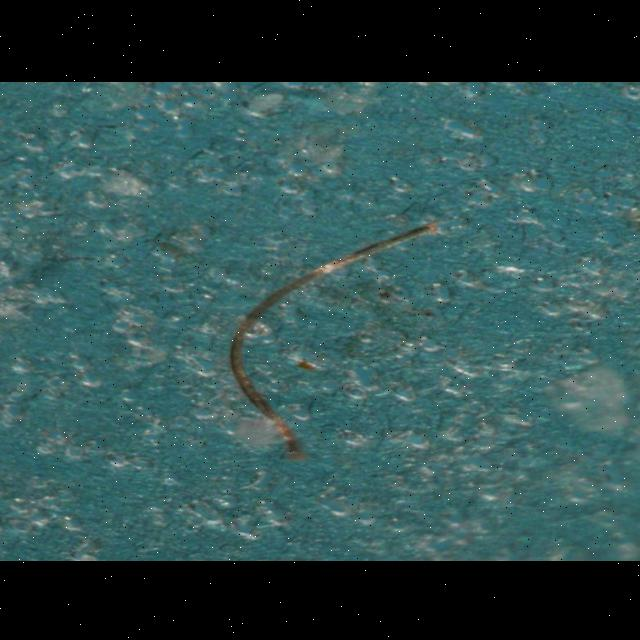Fibre: (228, 218, 442, 460)
